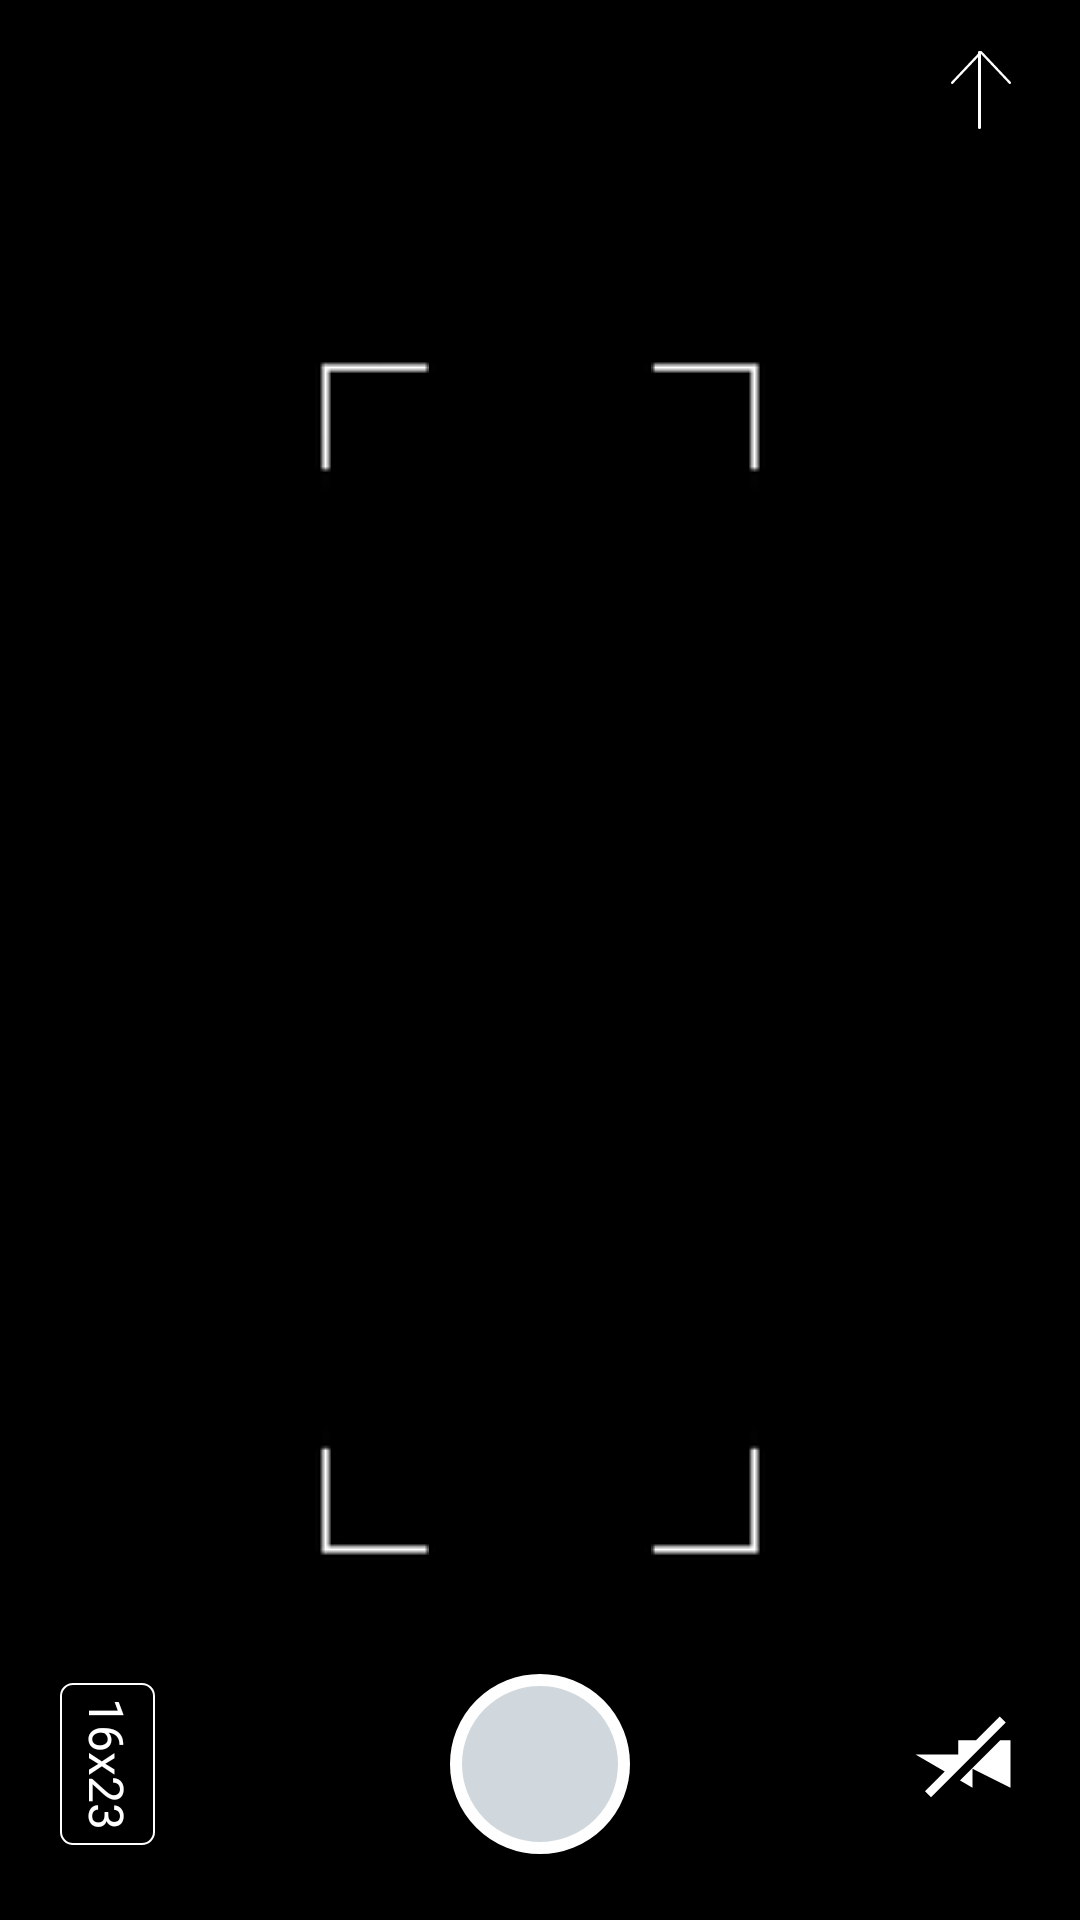

Locate icon controls on the screen. Image size 1080x1920, boxes as bbox=[x1, y1, x2, y2].
capture: bbox=[450, 1674, 630, 1854]
